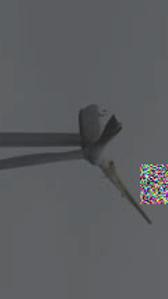faulty: (58, 94, 132, 203)
